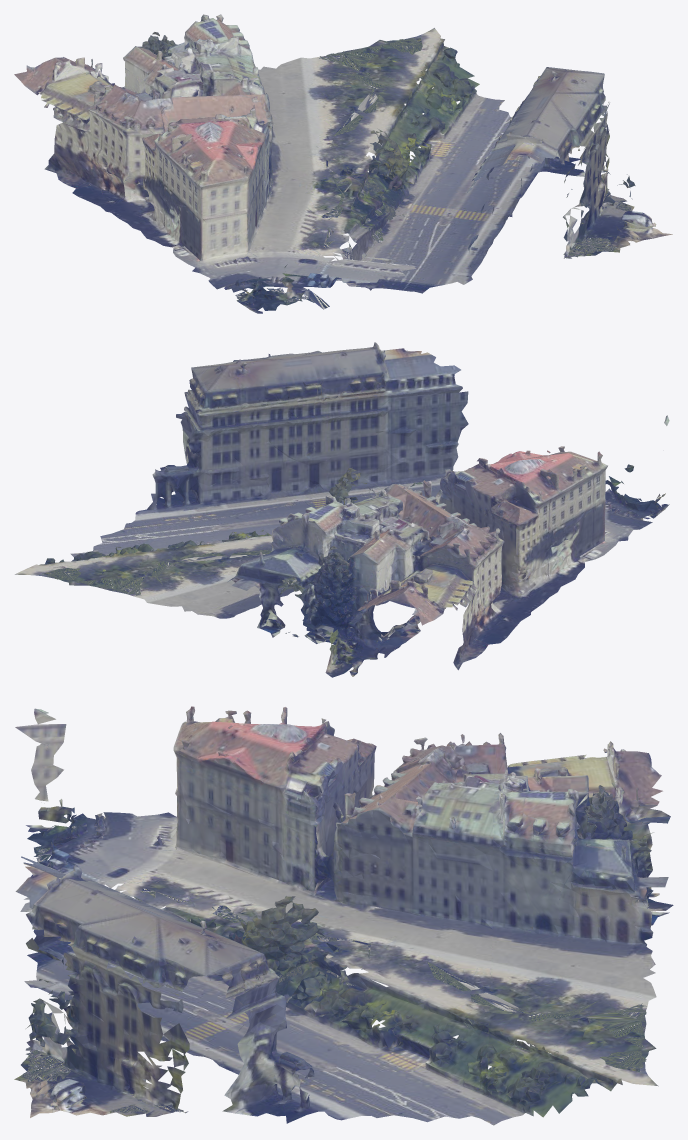
3 renders of one model, top to bottom at view 1: azimuth 30°, elevation 25°; view 2: azimuth 150°, elevation 25°; view 3: azimuth 270°, elevation 25°, orthographic. The views are drawn at different scales.
Bounding box in the file's own units: 108 × 30.12 × 109.
Materials: 1 (1 with a texture image).
